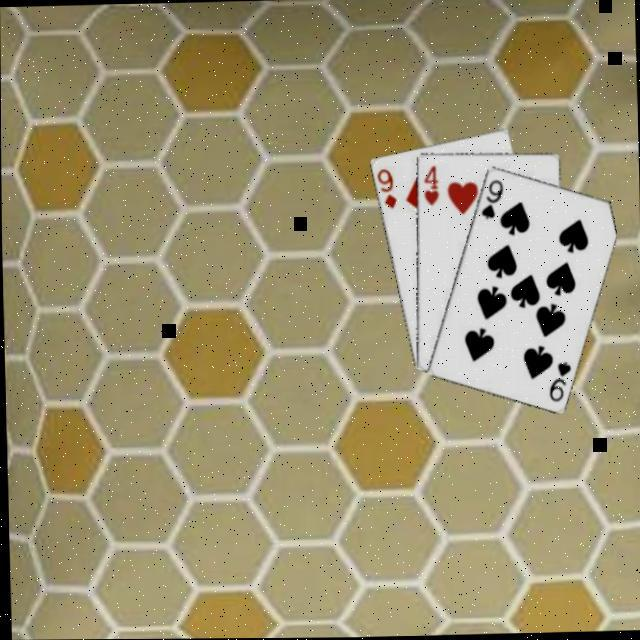4H: (420, 164, 441, 209)
9D: (374, 167, 400, 212)
9S: (477, 178, 506, 223), (545, 360, 574, 405)
